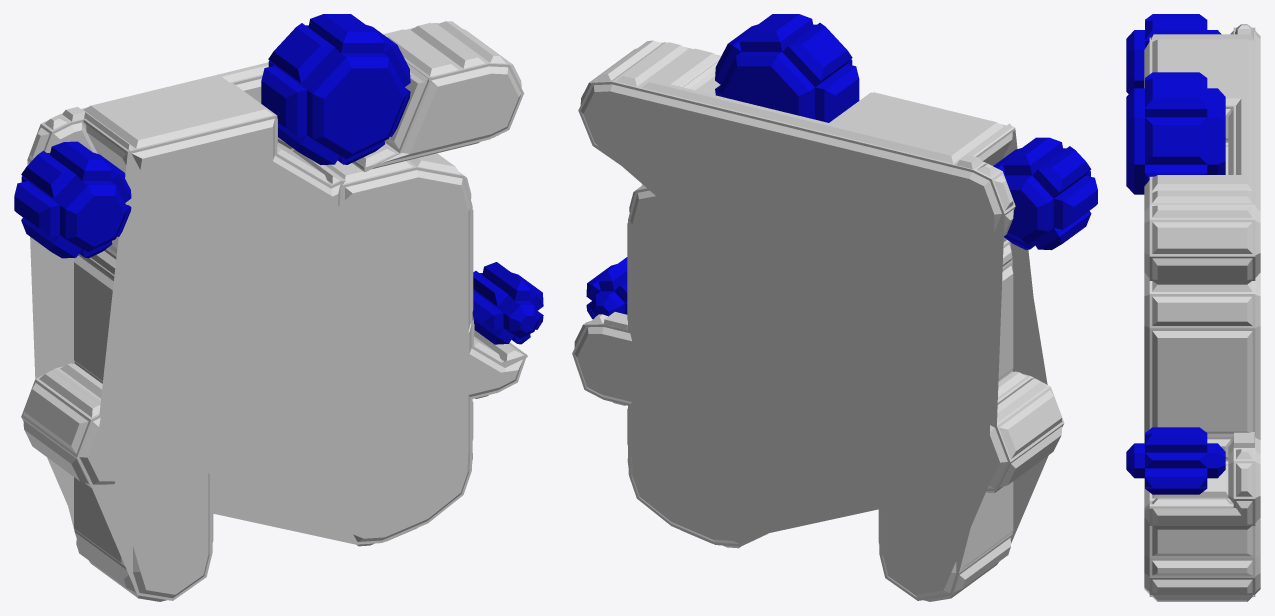
The model's file is Ch_China_再_01.fbx.
The picture shows the model from 3 angles, left to right: view 1: azimuth 30°, elevation 25°; view 2: azimuth 150°, elevation 25°; view 3: azimuth 270°, elevation 25°; orthographic projection. The views are drawn at different scales.
Parts seen in each view (by area): view 1: sphere1; view 2: sphere1; view 3: sphere1.
Part boxes in pixels (x1,y1,x2,y2): sphere1: [14, 14, 543, 601]; sphere1: [572, 14, 1097, 601]; sphere1: [1126, 14, 1260, 601].
Size of the model in its own units: 1.04 by 1.04 by 0.2541.
